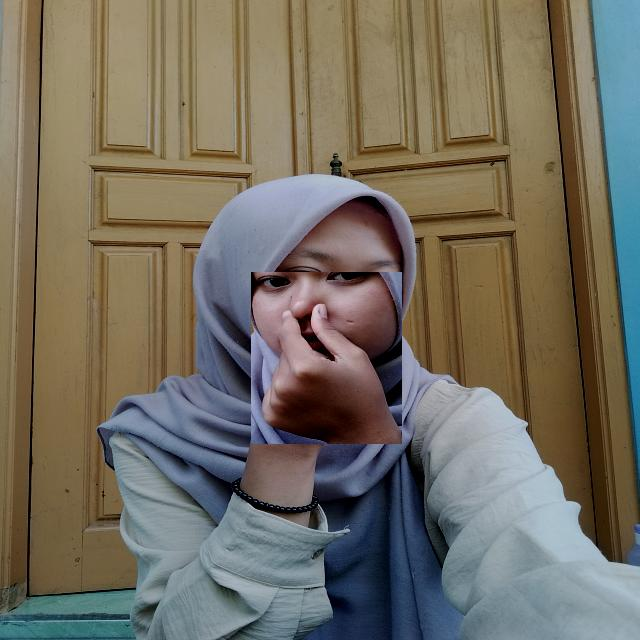bau: (251, 272, 402, 444)
